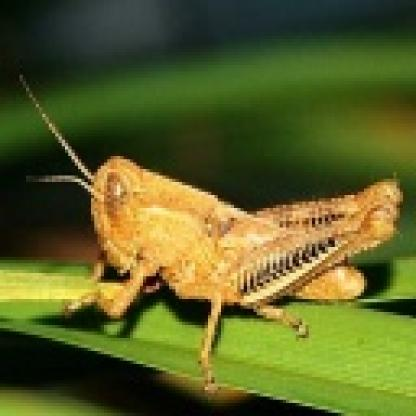grasshopper: (28, 96, 401, 389)
